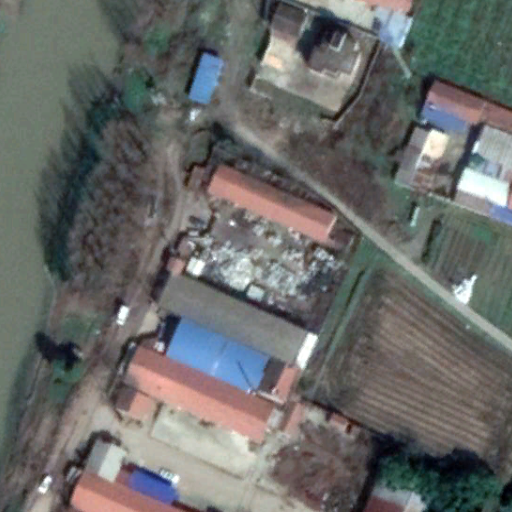msw: (191, 215, 344, 313)
